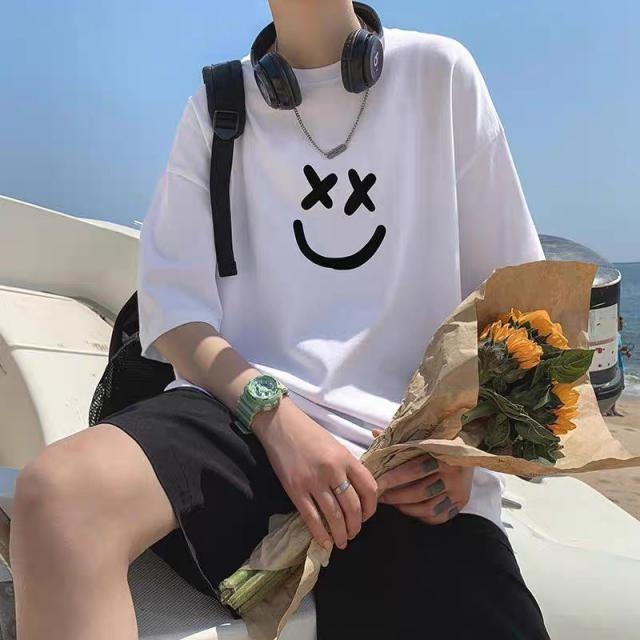Shirt: (132, 19, 570, 532)
